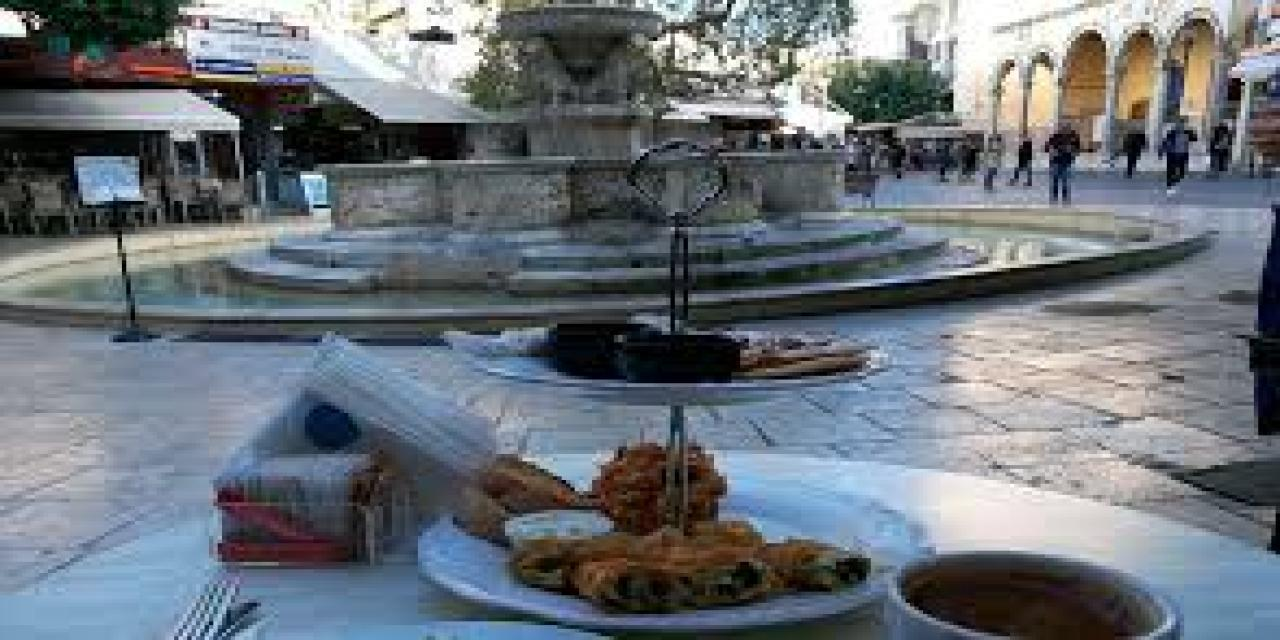Liontaria: (302, 3, 855, 228)
